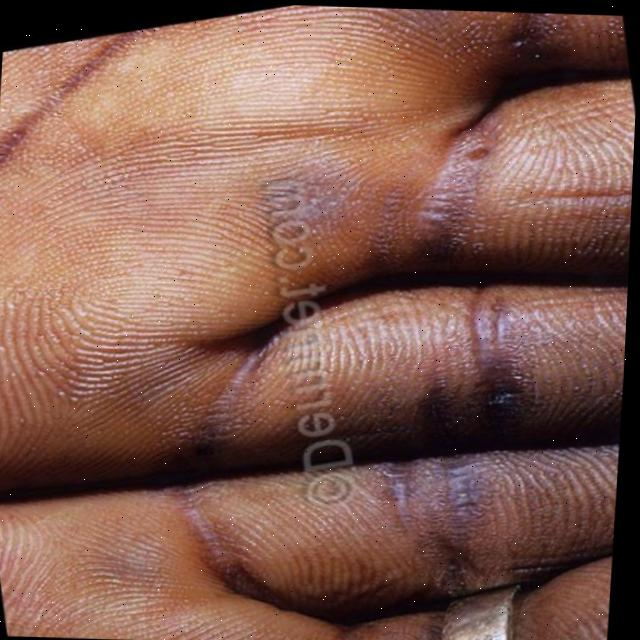Eczema: (263, 105, 506, 278), (418, 274, 546, 430), (360, 460, 507, 588)
